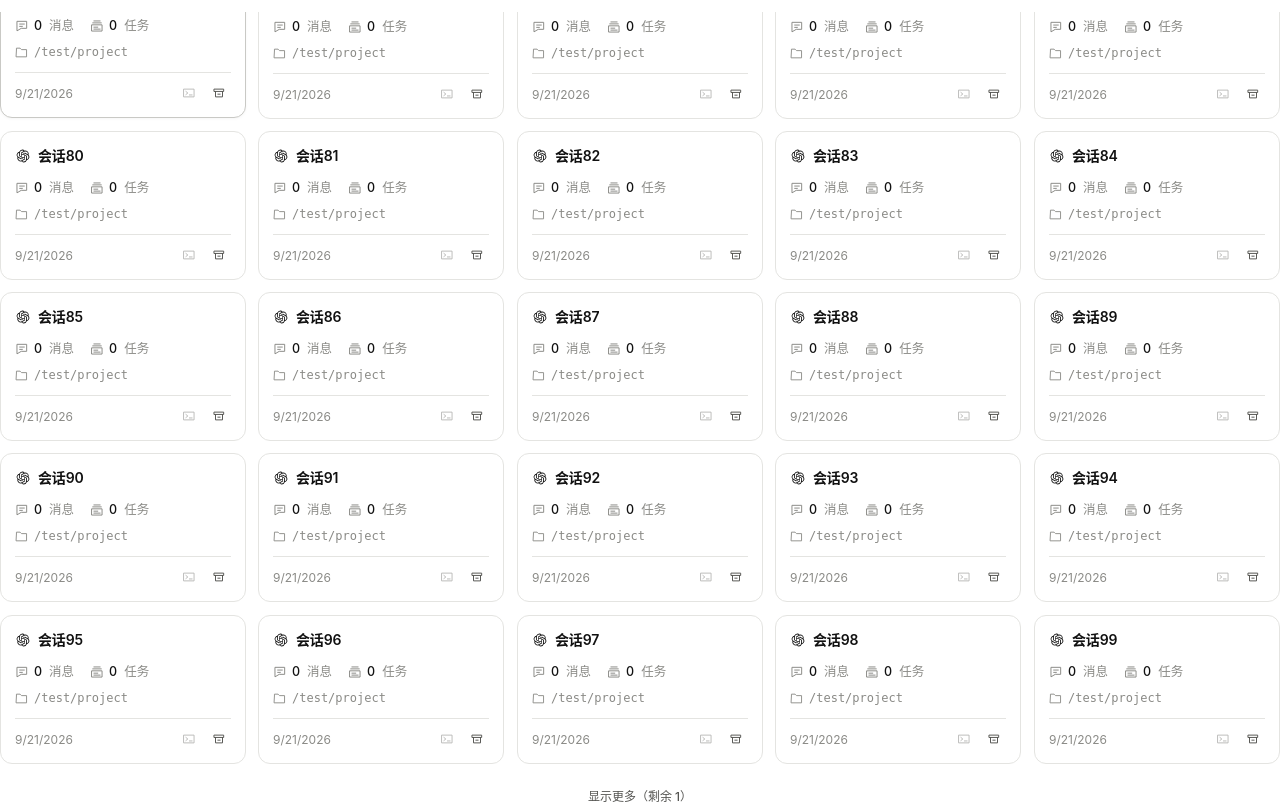
limits initial rows and reveals more without losing sessions
The width and height of the screenshot is (1280, 812).
(page scrolled)
Click the button "显示更多（剩余 1）": (640, 798) [577, 784, 703, 811]
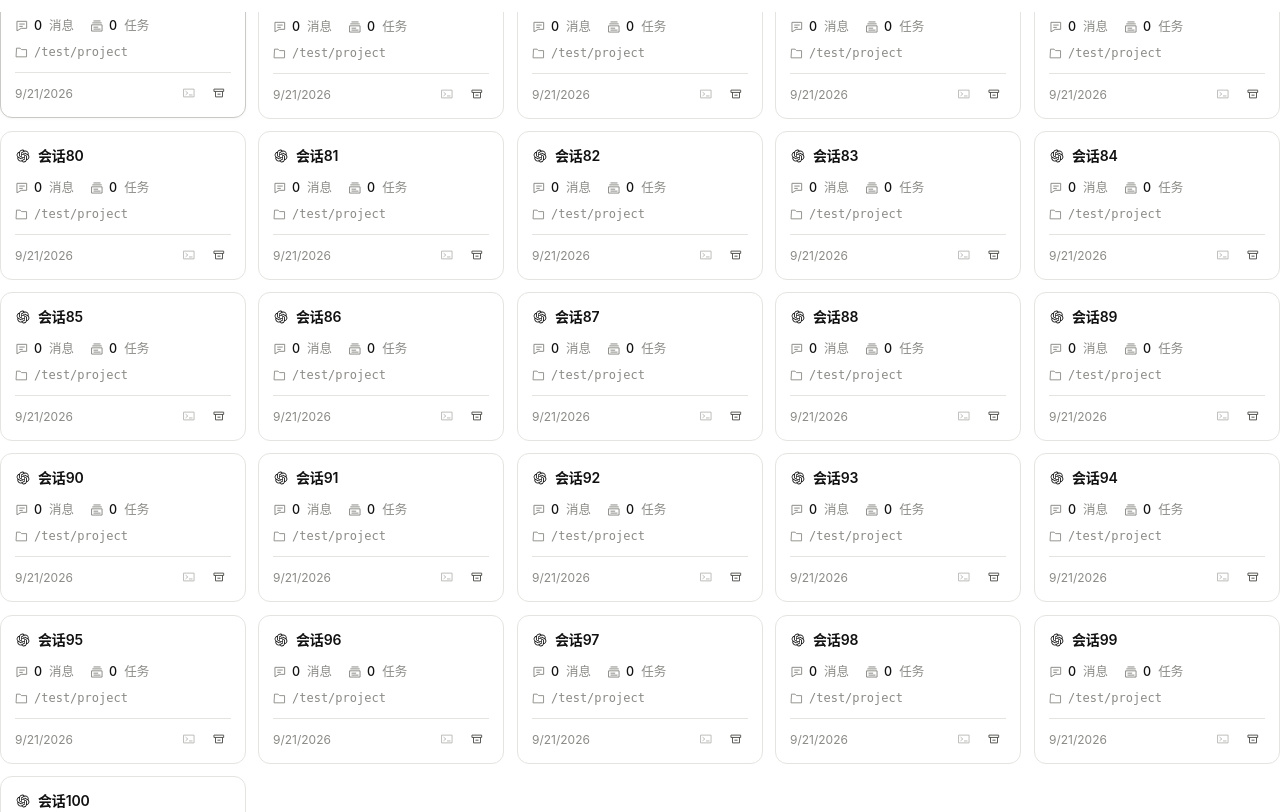
expect the text "会话100" is shown: met, box [38, 790, 90, 811]
